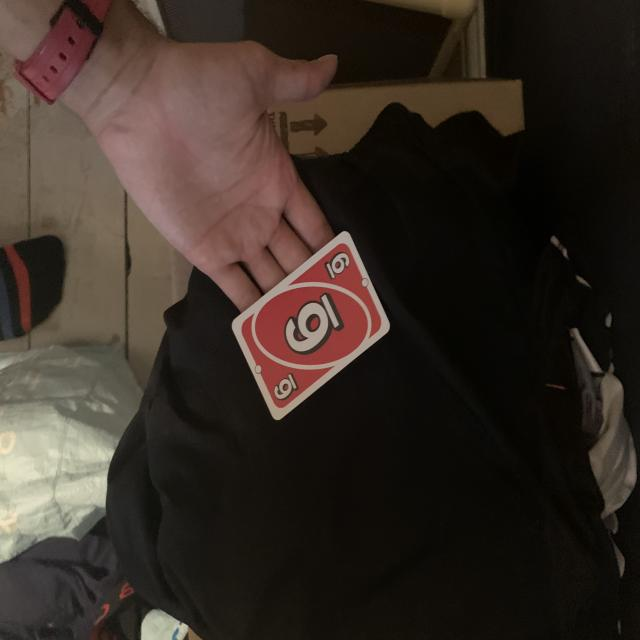lred-6: (322, 247, 356, 282)
